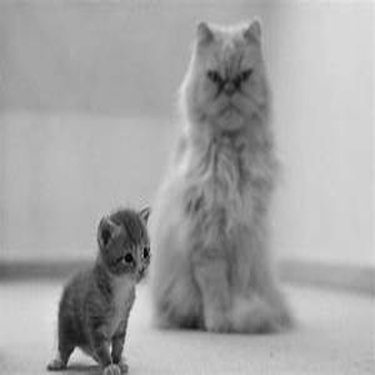cat: (142, 16, 293, 337), (45, 200, 153, 373)
